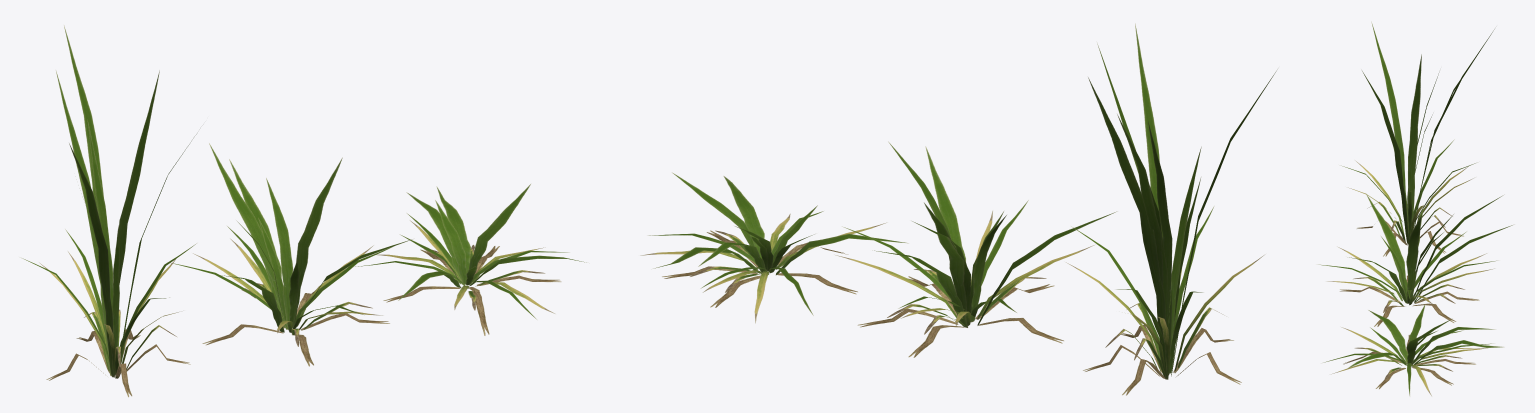
The model's file is grass_bushes_game_ready_asset.glb.
3 renders of one model, left to right at view 1: azimuth 30°, elevation 25°; view 2: azimuth 150°, elevation 25°; view 3: azimuth 270°, elevation 25°, orthographic. The views are drawn at different scales.
Visible parts, largest first — view 1: GrassBushe1_0, GrassBushe2_1, GrassBushe3_2; view 2: GrassBushe1_0, GrassBushe2_1, GrassBushe3_2; view 3: GrassBushe1_0, GrassBushe2_1, GrassBushe3_2.
Part boxes in pixels (x1=…): GrassBushe1_0: x1=22, y1=25, x2=196, y2=397; GrassBushe2_1: x1=171, y1=143, x2=412, y2=366; GrassBushe3_2: x1=355, y1=184, x2=586, y2=335; GrassBushe1_0: x1=1066, y1=23, x2=1276, y2=395; GrassBushe2_1: x1=835, y1=141, x2=1116, y2=357; GrassBushe3_2: x1=640, y1=172, x2=908, y2=323; GrassBushe1_0: x1=1341, y1=22, x2=1494, y2=256; GrassBushe2_1: x1=1318, y1=194, x2=1512, y2=326; GrassBushe3_2: x1=1323, y1=304, x2=1503, y2=395.
Size of the model in its own units: 0.922 by 0.5153 by 0.4217.
Materials: 1 (1 with a texture image).
